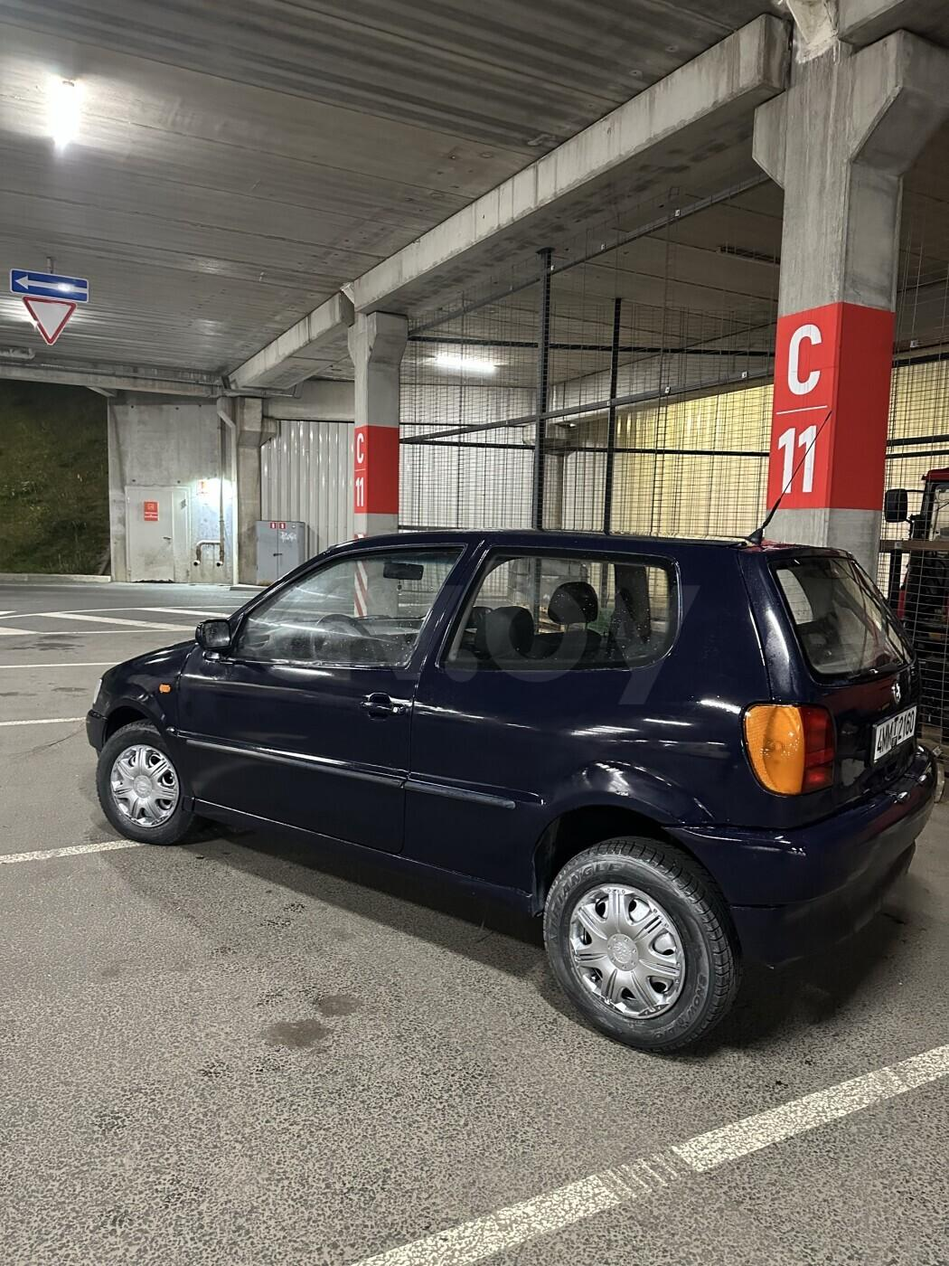Polo_1994-2002: (83, 531, 940, 1083)
